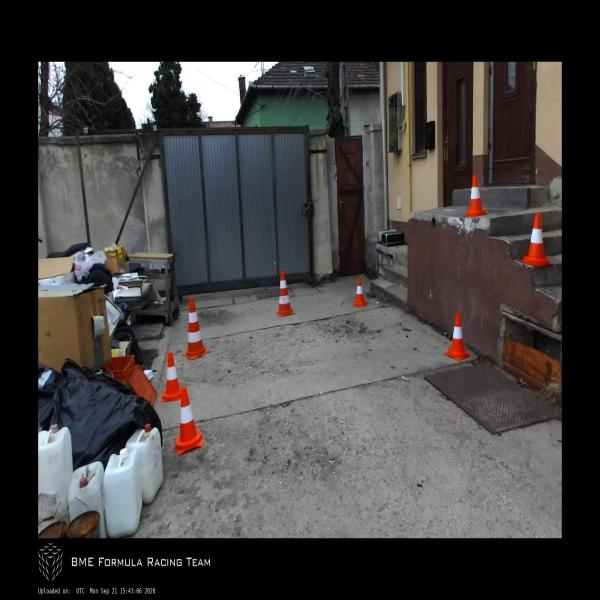large_orange_cone: (182, 298, 210, 360), (276, 270, 295, 317)
orange_cone: (175, 388, 204, 456), (518, 213, 553, 267), (444, 312, 471, 362), (161, 353, 182, 402), (464, 174, 488, 216), (352, 278, 368, 306)
